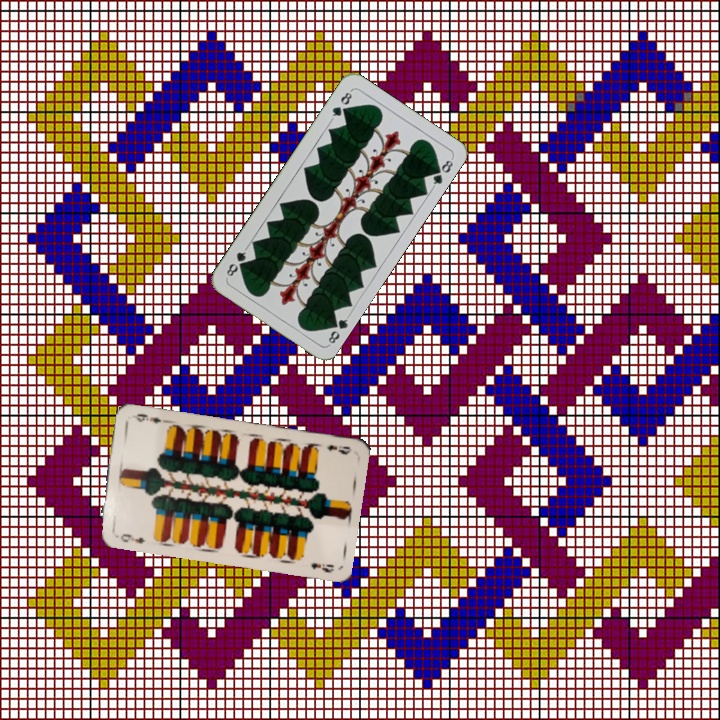E9: (116, 530, 148, 546), (323, 441, 354, 457)
G8: (327, 87, 355, 123), (324, 312, 352, 348)
